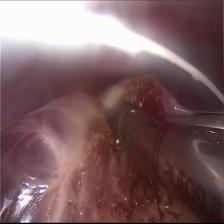Clipper: (100, 98, 163, 180)
Grasper: (164, 101, 224, 139)
